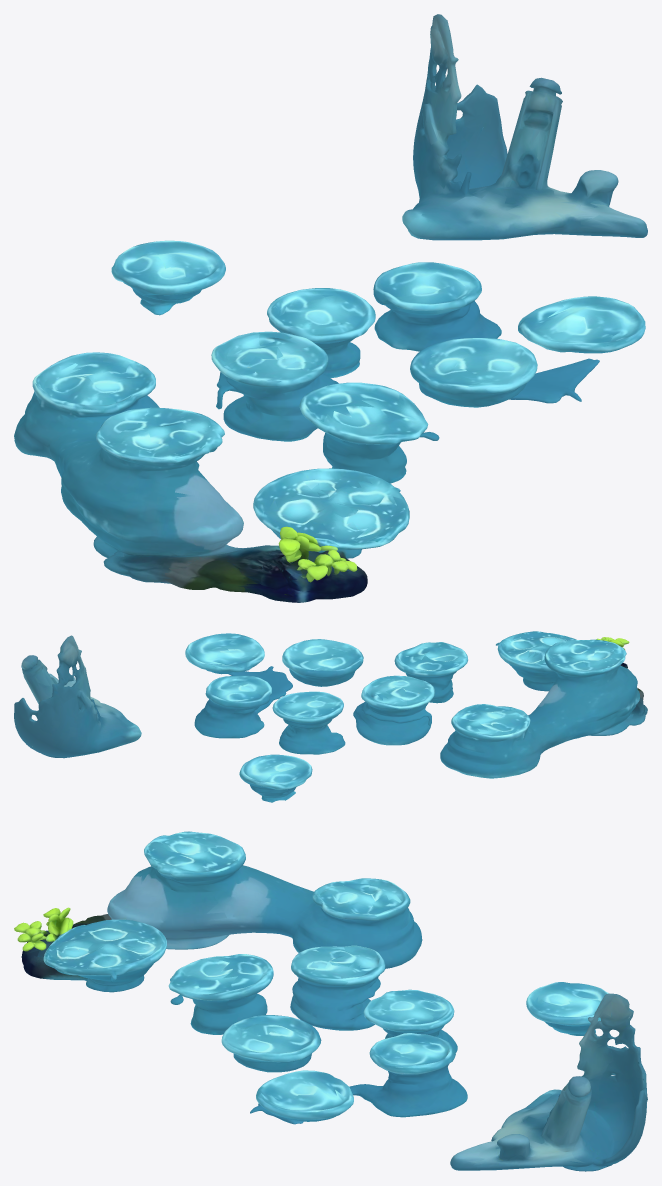
Rendered from glowing-island.glb.
The picture shows the model from 3 angles, top to bottom: view 1: azimuth 30°, elevation 25°; view 2: azimuth 150°, elevation 25°; view 3: azimuth 270°, elevation 25°; orthographic projection. The views are drawn at different scales.
Parts seen in each view (by area): view 1: world; view 2: world; view 3: world.
Part boxes in pixels (<box>): world: <box>14,14,647,602</box>; world: <box>14,631,647,802</box>; world: <box>14,831,647,1171</box>.
Bounding box in the file's own units: 1 × 0.258 × 0.9552.
1 material, 1 textured.
